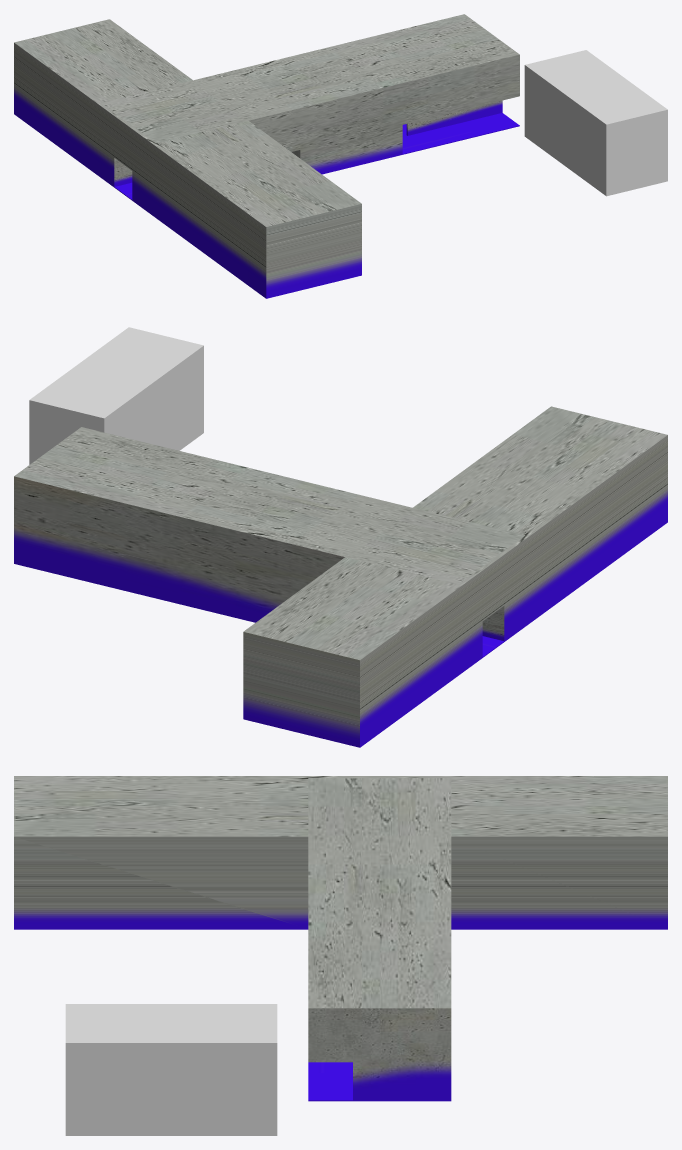
File: jjjjjjjjjjjjj.glb
The picture shows the model from 3 angles, top to bottom: view 1: azimuth 30°, elevation 25°; view 2: azimuth 150°, elevation 25°; view 3: azimuth 270°, elevation 25°; orthographic projection. The views are drawn at different scales.
Visible parts, largest first — view 1: Cube.002, Cube; view 2: Cube.002, Cube; view 3: Cube.002, Cube.
Boxes of the visible parts, x1=… form: Cube.002: x1=14, y1=14, x2=519, y2=298; Cube: x1=524, y1=50, x2=667, y2=196; Cube.002: x1=14, y1=406, x2=667, y2=747; Cube: x1=29, y1=327, x2=203, y2=464; Cube.002: x1=14, y1=776, x2=667, y2=1101; Cube: x1=65, y1=1004, x2=277, y2=1135.
Size of the model in its own units: 12.31 by 2 by 12.75.
1 material, 1 textured.
